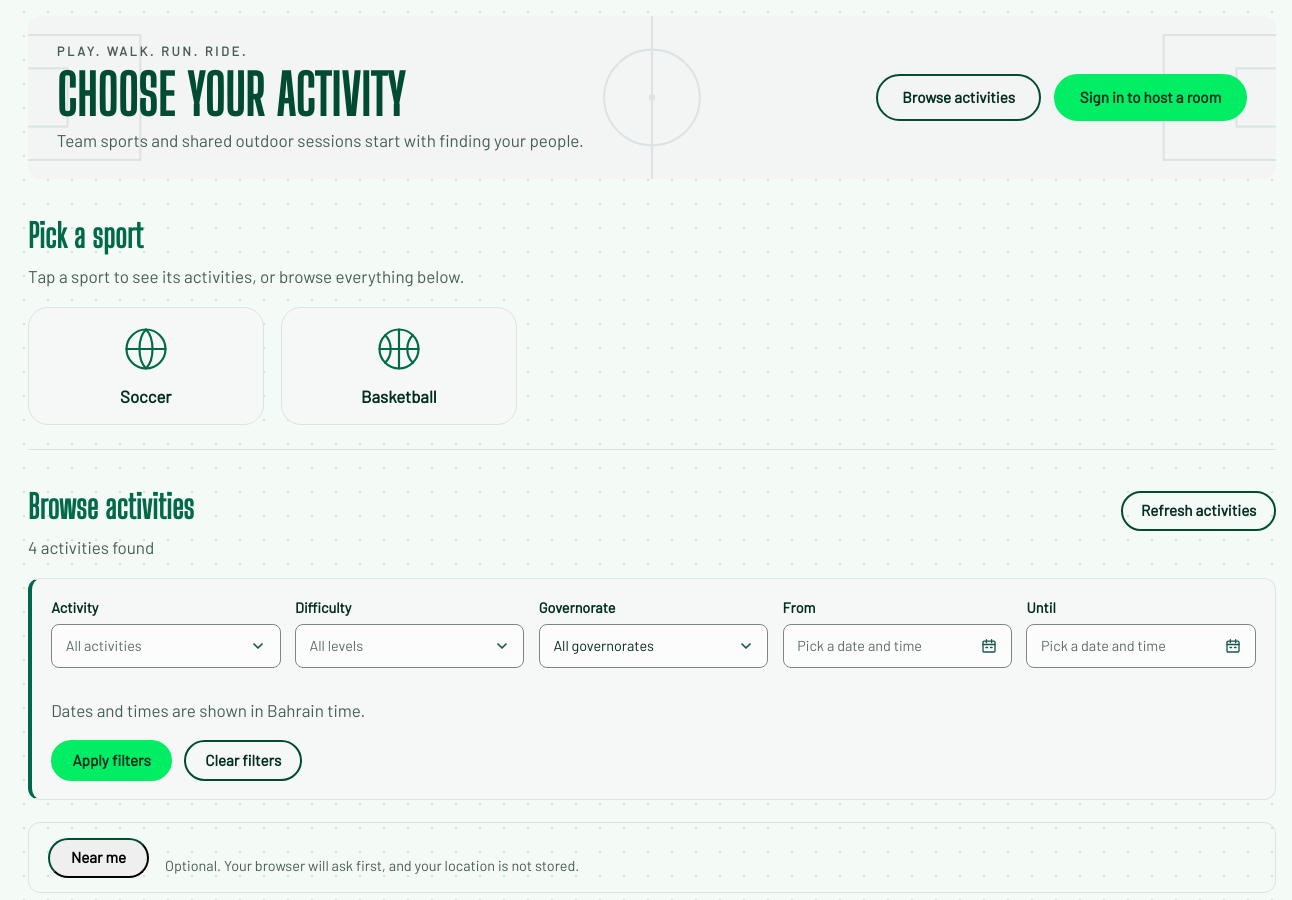
Test: Sports filters and discovery › prevents reversed date ranges from sending a new discovery request
Replace the text in the field labelled "From" with "2030-10-11T18:00" at (897, 632), box [783,597,1012,668]
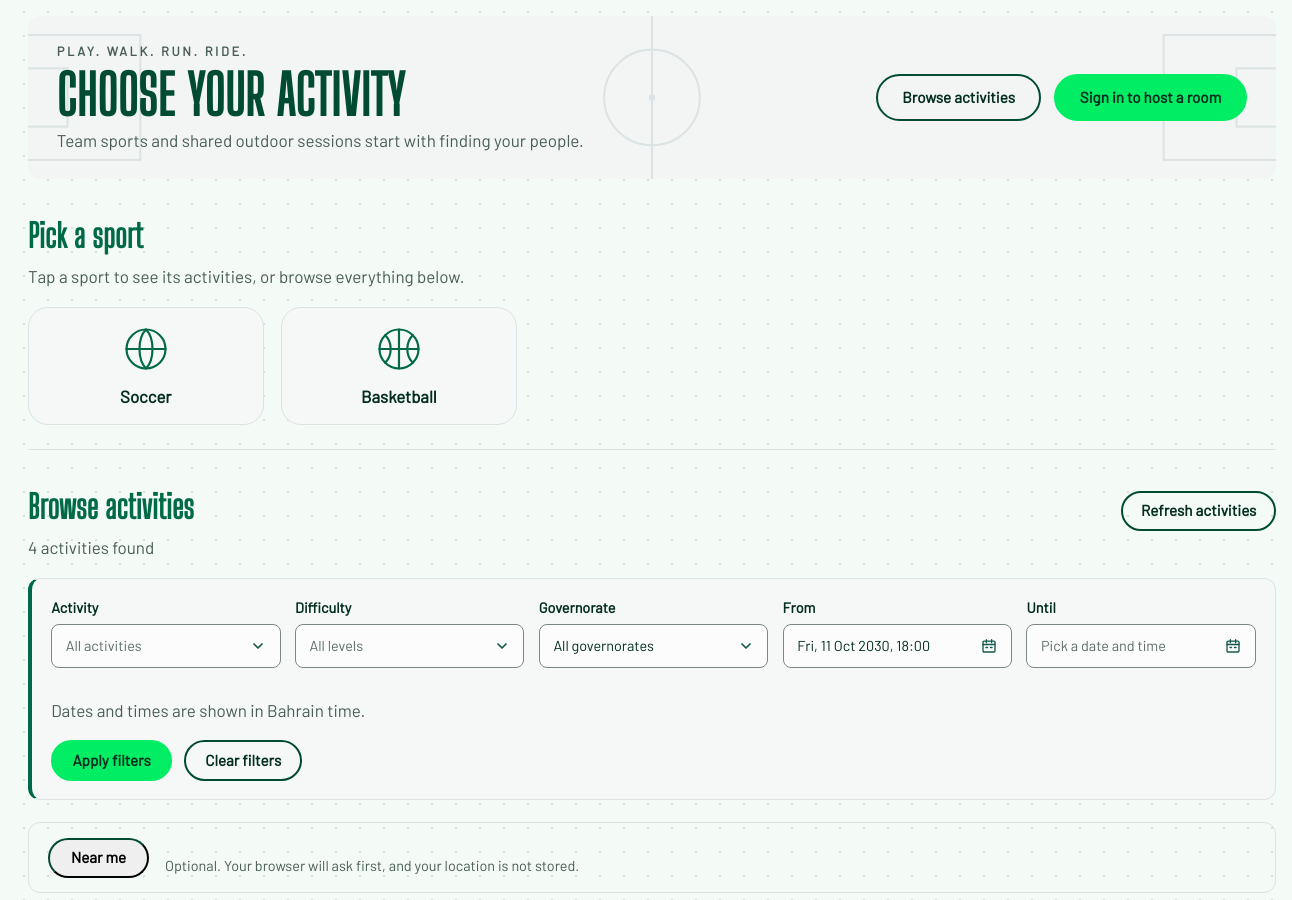
Replace the text in the field labelled "Until" with "2030-10-10T18:00" at (1141, 632), box [1026,597,1256,668]
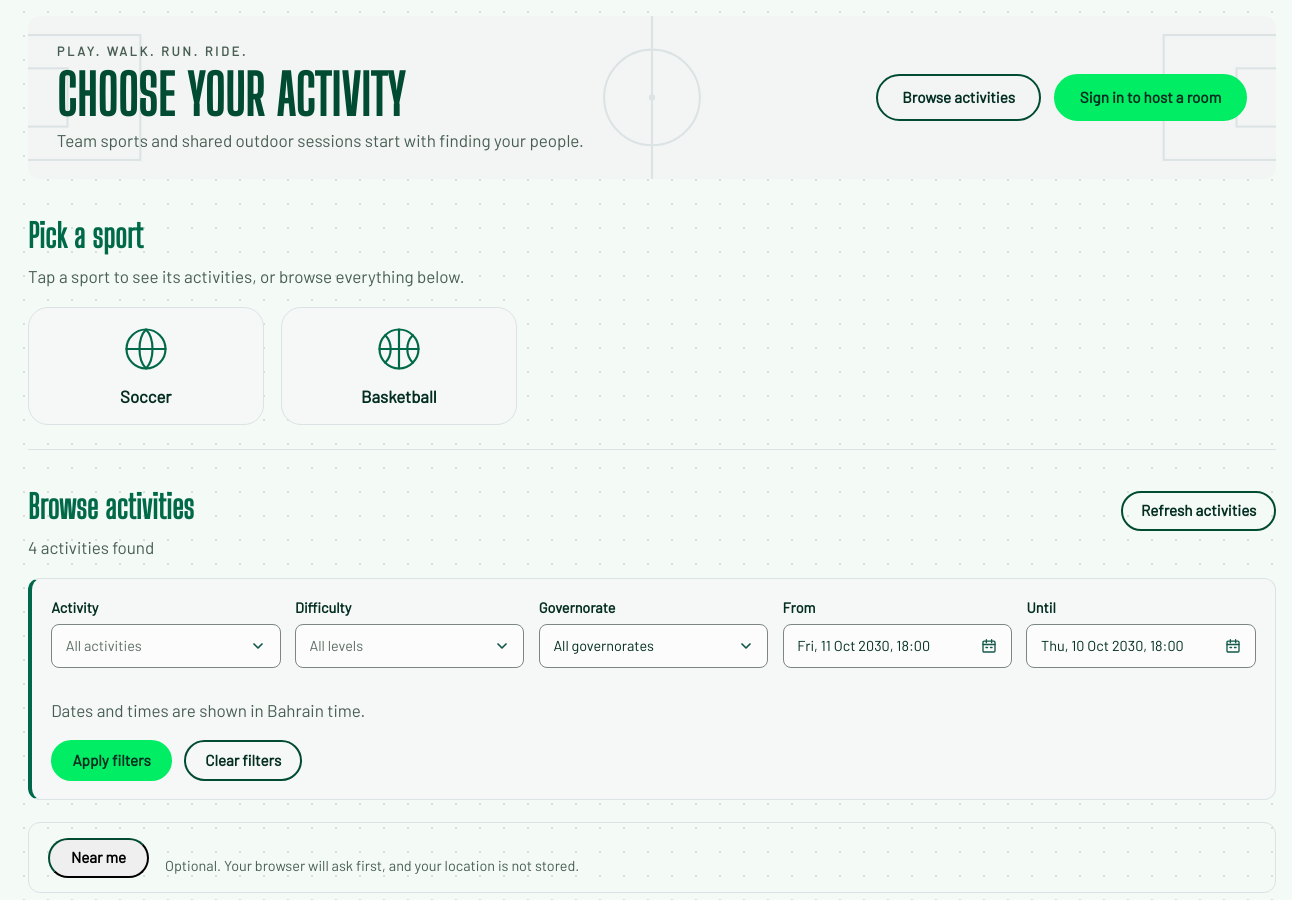
Click the button "Apply filters" at (112, 761), box [51,740,172,781]
(page scrolled)
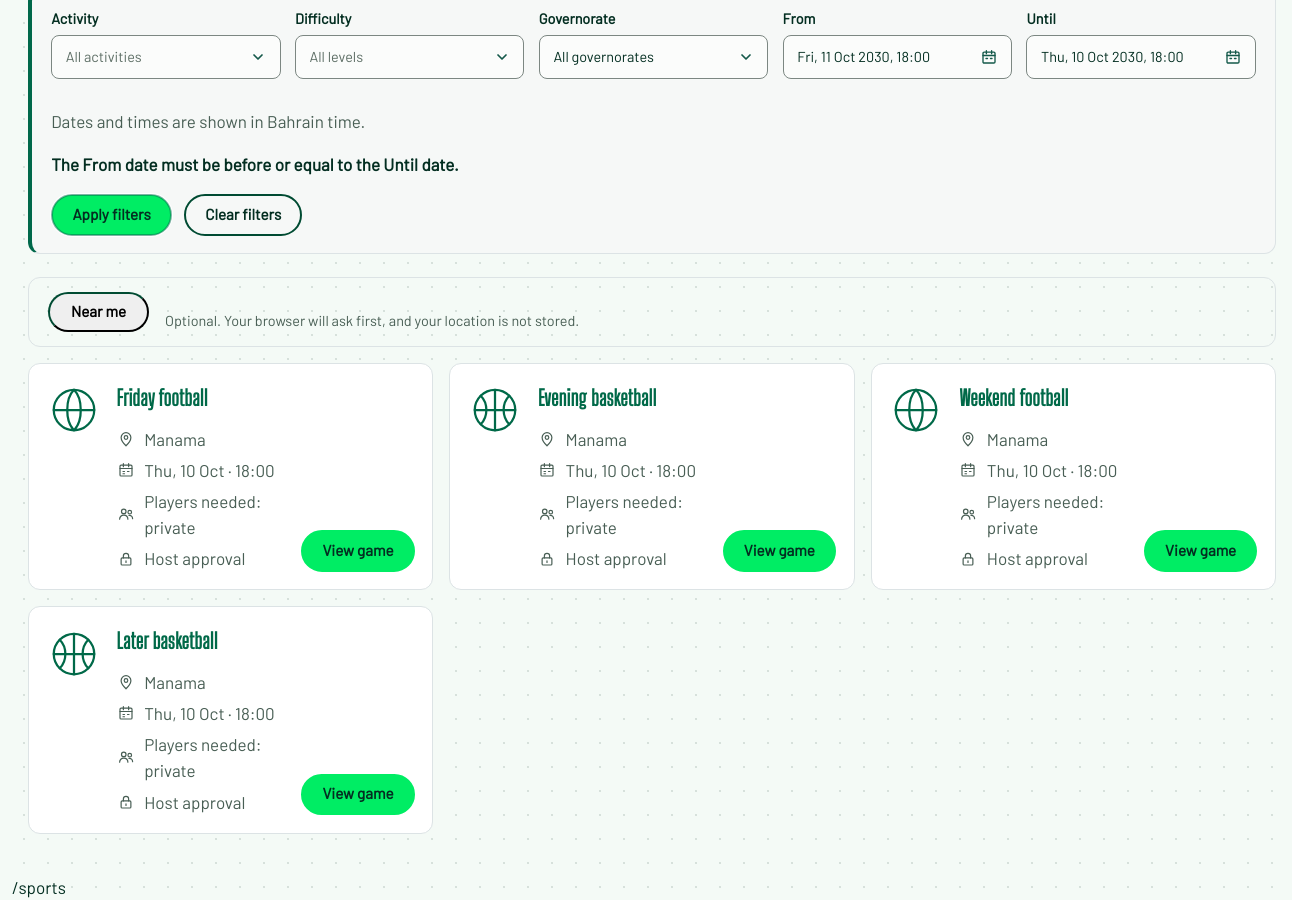
Check: the text named "Current route" reads "/sports", box [12,876,66,896]
Check: the message reads "The From date must be before or equal to the Until date.", box [51,154,459,174]
